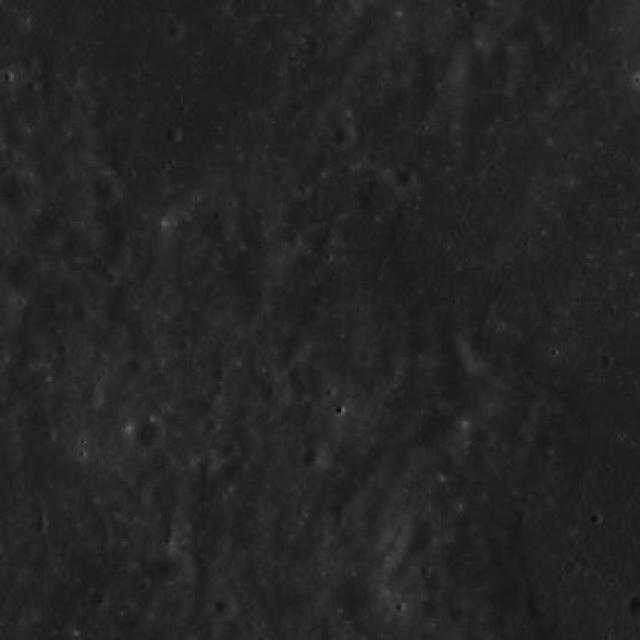crater: (398, 32, 466, 100), (338, 566, 390, 620), (448, 365, 500, 418), (231, 244, 280, 293), (418, 408, 464, 452), (4, 172, 47, 215), (186, 543, 229, 586), (148, 548, 192, 590), (509, 10, 549, 48), (6, 254, 46, 292), (372, 334, 408, 372), (310, 276, 346, 312), (404, 331, 438, 364), (362, 58, 395, 91), (326, 494, 359, 526), (368, 174, 399, 206), (92, 173, 123, 204), (448, 351, 479, 382), (257, 376, 288, 407), (282, 328, 312, 359), (136, 418, 166, 449), (228, 423, 258, 452), (488, 37, 518, 66), (18, 337, 47, 366), (197, 389, 226, 418), (410, 532, 439, 560), (243, 288, 271, 316), (302, 445, 330, 473), (462, 448, 489, 476), (33, 224, 61, 250), (231, 0, 266, 20), (2, 124, 28, 150), (358, 193, 384, 219), (408, 298, 434, 324), (442, 337, 468, 363), (340, 408, 366, 434), (386, 53, 412, 79), (24, 365, 50, 390), (416, 594, 442, 618), (469, 0, 497, 22), (213, 594, 238, 618), (422, 570, 446, 593), (78, 386, 102, 408), (210, 221, 232, 244), (379, 362, 401, 384), (474, 428, 496, 450), (152, 449, 174, 471), (228, 400, 250, 422), (333, 125, 355, 146), (394, 168, 416, 189), (274, 350, 294, 370), (126, 356, 146, 376), (449, 606, 469, 626), (394, 560, 414, 580), (54, 153, 74, 173), (492, 352, 512, 372), (72, 304, 92, 324), (147, 393, 167, 413), (94, 529, 114, 549), (88, 589, 107, 608), (542, 300, 560, 320), (164, 125, 182, 144), (166, 22, 183, 40), (320, 228, 338, 245), (510, 420, 527, 438), (293, 180, 310, 197), (518, 402, 536, 418), (510, 506, 528, 522), (286, 230, 302, 247), (199, 456, 216, 472), (289, 100, 305, 116), (176, 336, 192, 352), (132, 480, 148, 494)
